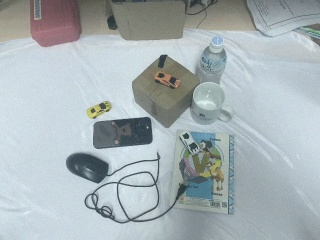book: (171, 129, 245, 216)
bottle: (195, 34, 227, 84)
box: (131, 54, 199, 128), (108, 1, 186, 42)
cup: (190, 81, 235, 126)
mouse: (65, 152, 109, 184)
phone: (87, 118, 156, 148)
toy_car: (176, 130, 203, 155), (155, 70, 183, 90), (86, 101, 112, 119)
